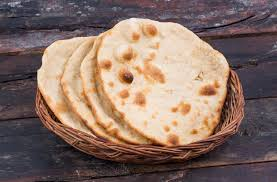roti: (98, 15, 233, 142), (85, 29, 228, 147), (64, 35, 143, 142), (37, 34, 90, 139)
